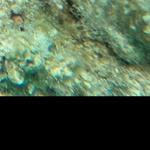dead: (1, 1, 146, 94)
